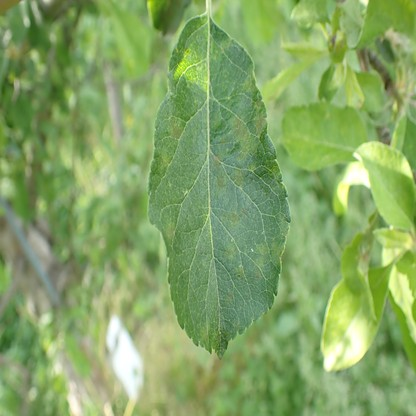scab: (229, 117, 256, 163), (256, 242, 283, 267), (212, 156, 226, 190), (254, 113, 268, 136), (223, 208, 241, 222), (222, 244, 235, 262), (170, 120, 183, 138), (253, 259, 263, 281), (233, 170, 245, 186), (166, 222, 176, 238), (236, 265, 244, 281), (224, 291, 233, 302), (217, 137, 225, 146)
